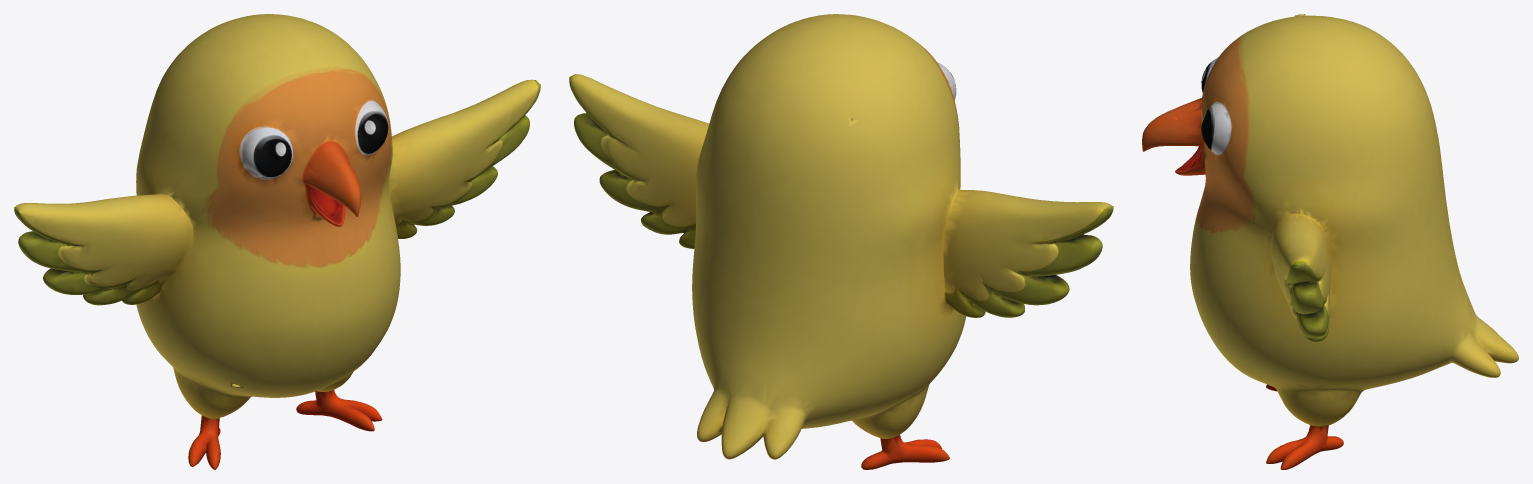
The model's file is chicchi.glb.
3 renders of one model, left to right at view 1: azimuth 30°, elevation 25°; view 2: azimuth 150°, elevation 25°; view 3: azimuth 270°, elevation 25°, orthographic. The views are drawn at different scales.
Parts seen in each view (by area): view 1: otton; view 2: otton; view 3: otton.
Part boxes in pixels (x1,y1,x2,y2): otton: [14, 14, 540, 469]; otton: [569, 14, 1113, 469]; otton: [1142, 14, 1518, 469].
Bounding box in the file's own units: 0.9998 × 0.7465 × 0.6369.
1 material, 1 textured.
